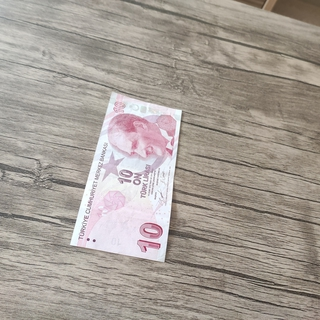10TLFront: (68, 90, 182, 263)
